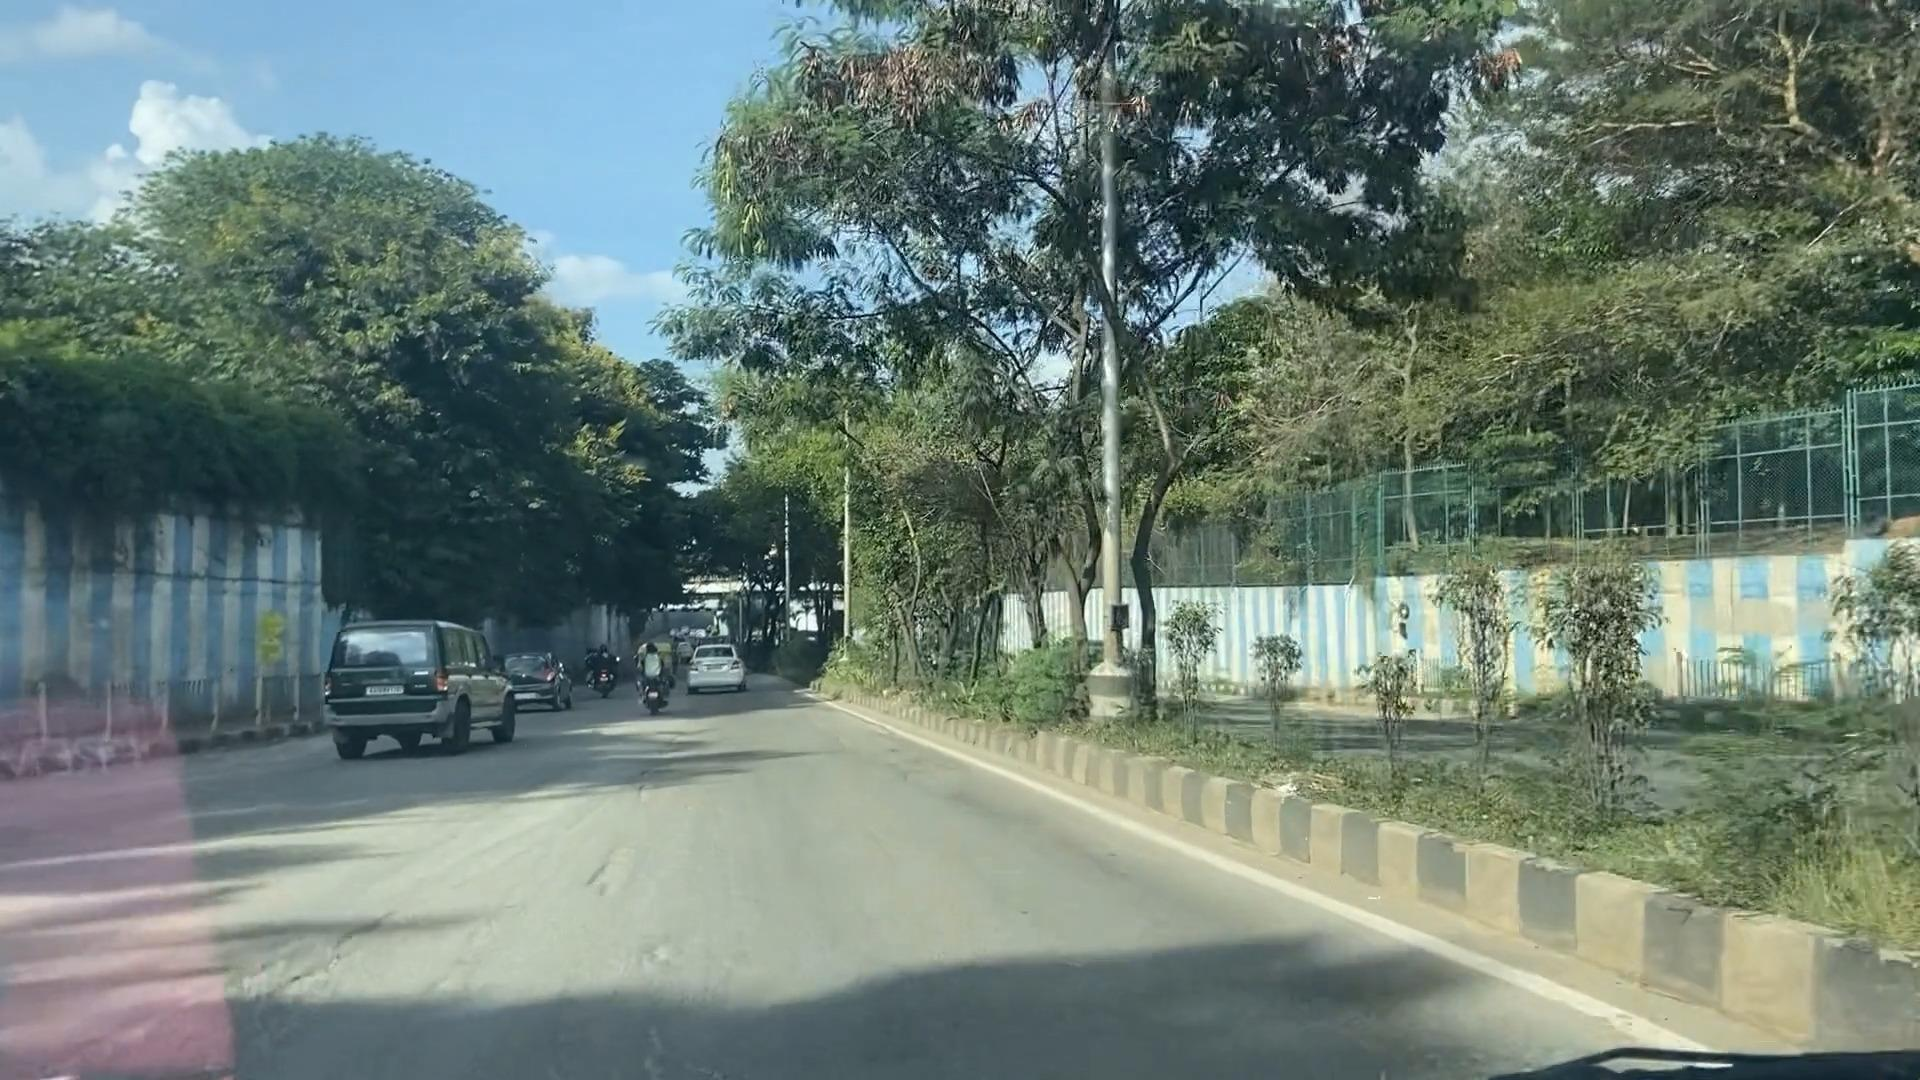LMV: (342, 615, 513, 752)
RoadDamages: (124, 914, 402, 1059), (564, 802, 659, 930)
